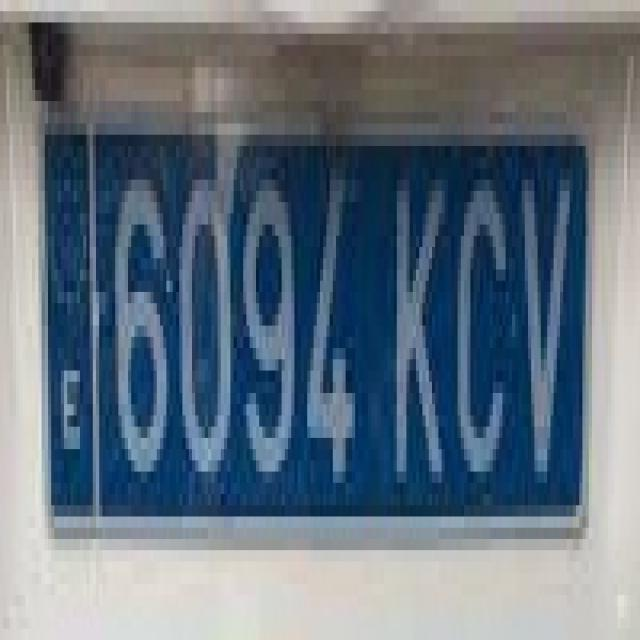licenseplate: (44, 109, 589, 538)
